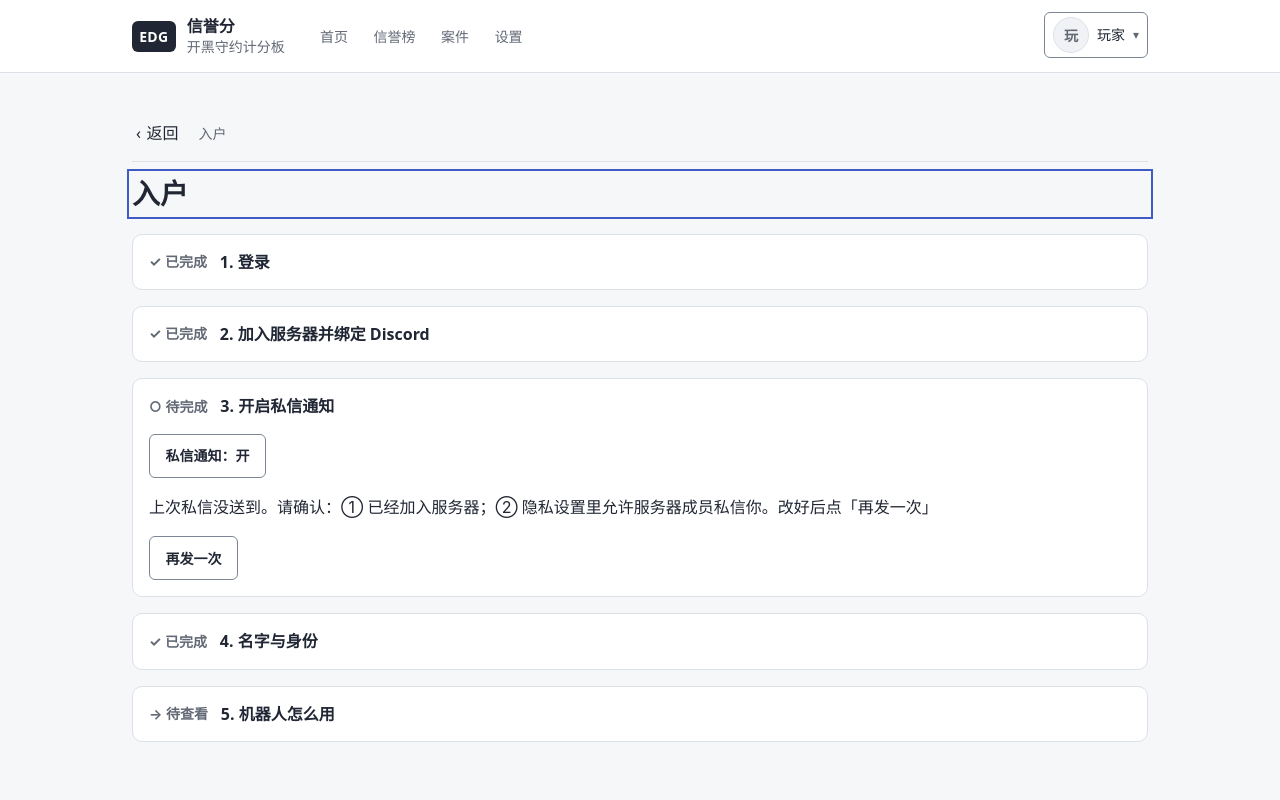
Test: welcome page › shows server errors for resend without claiming it was sent
The image size is (1280, 800).
What coordinates should you click on to do the following:
click the button "再发一次"
I would click on:
 (193, 558)
Its box is 149,536 -> 238,580.
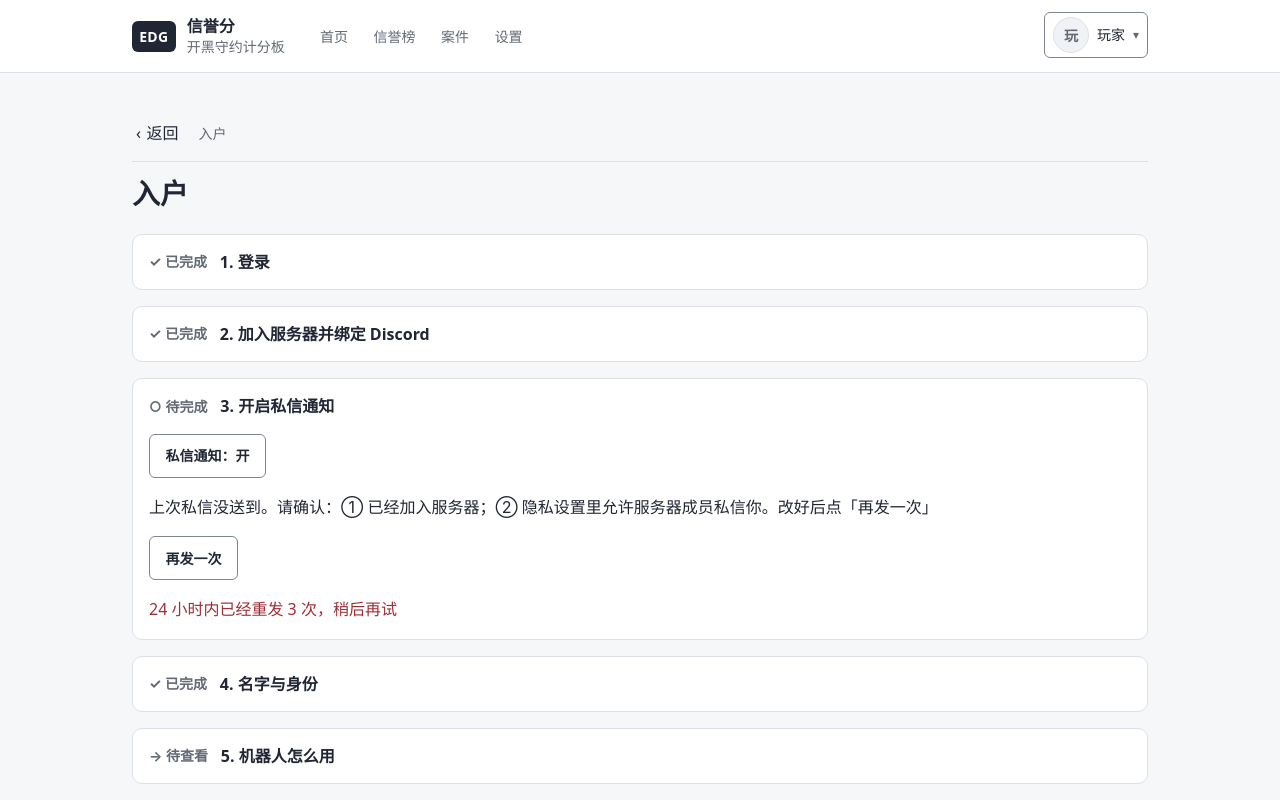
Check: the message reads "24 小时内已经重发 3 次，稍后再试", box 149,598 -> 397,620
